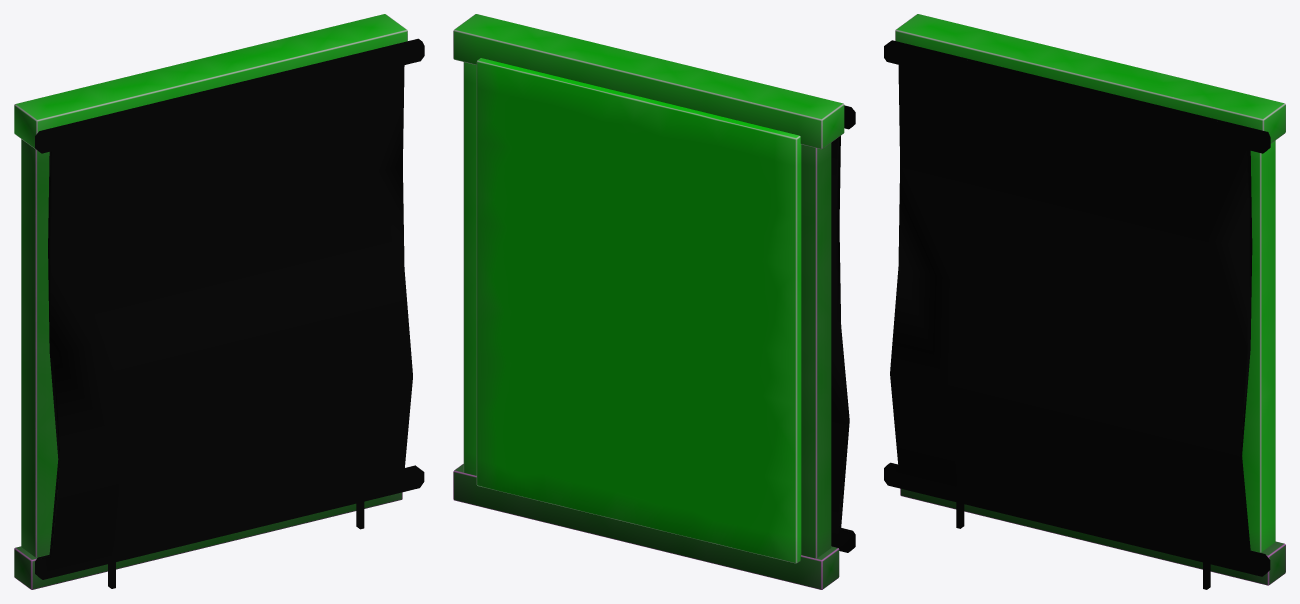
File: window_slope_200_12_right.fbx
The picture shows the model from 3 angles, left to right: view 1: azimuth 30°, elevation 25°; view 2: azimuth 150°, elevation 25°; view 3: azimuth 330°, elevation 25°; orthographic projection.
Parts seen in each view (by area): view 1: window_slope_200_12_right; view 2: window_slope_200_12_right; view 3: window_slope_200_12_right.
Boxes of the visible parts, x1,y1,x2,y2 form: window_slope_200_12_right: (14, 14, 424, 589); window_slope_200_12_right: (453, 14, 855, 589); window_slope_200_12_right: (884, 14, 1285, 589).
Bounding box in the file's own units: 1.36 × 1.62 × 0.2573.
